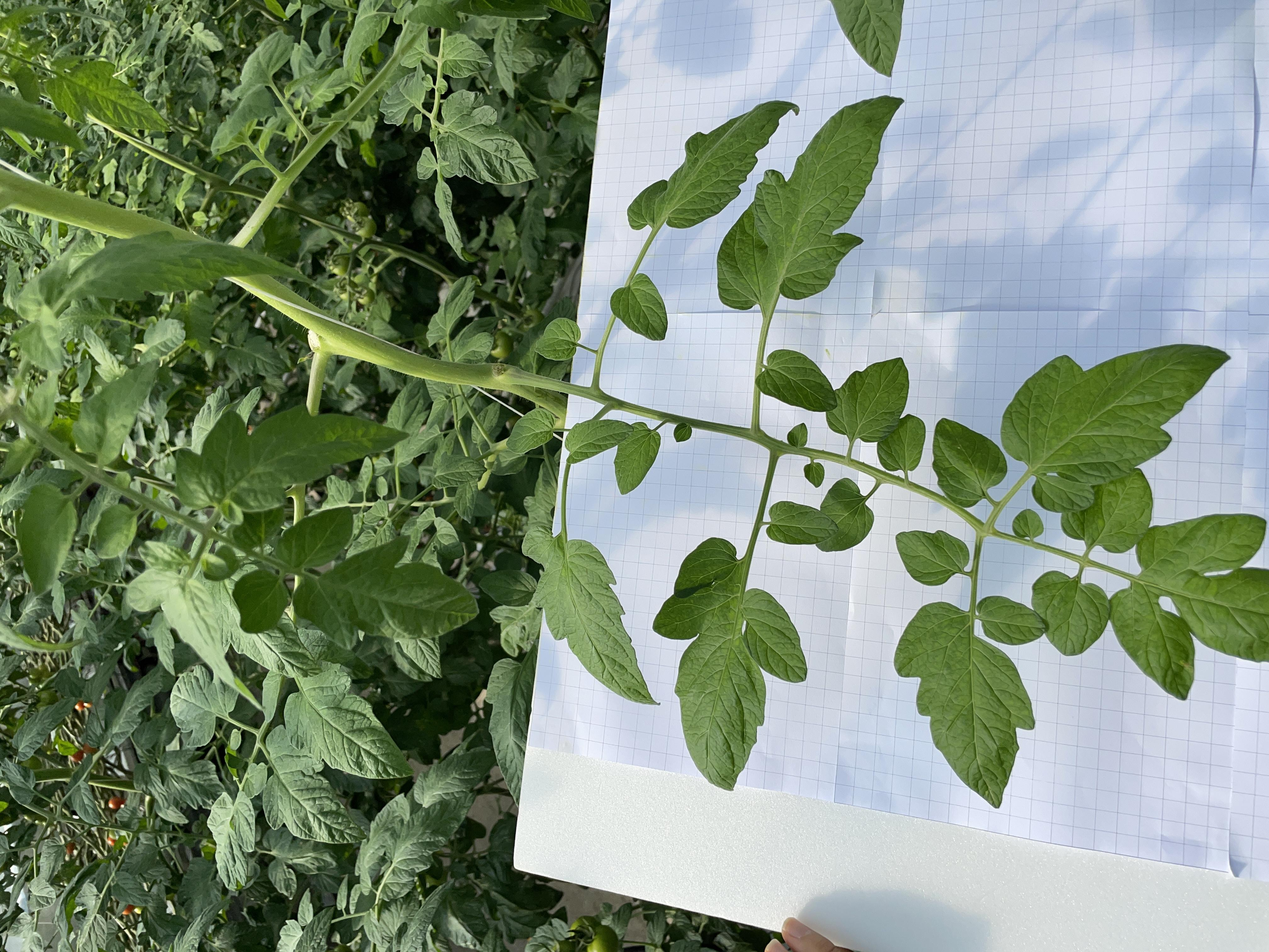Healthy: (855, 537, 1143, 679), (213, 488, 555, 607), (582, 749, 811, 924), (188, 669, 477, 788), (569, 131, 733, 309), (327, 390, 570, 496), (961, 470, 1137, 600), (403, 219, 557, 360), (322, 94, 510, 199), (869, 46, 961, 237), (230, 212, 377, 311), (67, 273, 215, 359), (145, 196, 303, 276), (1089, 33, 1198, 130), (1022, 327, 1150, 406), (649, 52, 790, 119), (190, 363, 400, 403), (530, 795, 648, 865), (593, 698, 713, 756), (394, 774, 510, 833), (471, 14, 623, 58), (676, 629, 794, 682), (1164, 621, 1269, 679), (272, 127, 382, 180), (719, 566, 803, 629), (273, 79, 391, 123), (82, 155, 214, 192), (193, 310, 270, 371), (513, 208, 595, 264), (533, 611, 632, 656), (486, 671, 564, 728), (256, 8, 341, 60), (756, 169, 843, 219), (813, 456, 905, 502), (806, 319, 902, 362), (584, 0, 646, 62), (608, 459, 707, 497), (424, 174, 511, 217), (1144, 178, 1230, 221), (645, 290, 764, 319), (1177, 256, 1269, 293), (541, 574, 602, 629), (650, 423, 710, 476), (1099, 284, 1187, 320), (0, 301, 92, 335), (640, 657, 718, 695), (758, 62, 838, 96), (917, 325, 1028, 349), (1165, 329, 1225, 370), (525, 70, 597, 104), (664, 378, 726, 417), (787, 399, 848, 437), (786, 104, 848, 140), (1136, 410, 1208, 440), (461, 358, 510, 402), (364, 295, 422, 332), (619, 323, 664, 366), (367, 110, 454, 131), (60, 83, 109, 119), (1227, 304, 1269, 346), (935, 0, 985, 35), (508, 103, 549, 143), (652, 300, 706, 330), (195, 3, 261, 27), (673, 353, 734, 376), (101, 89, 146, 120), (169, 53, 229, 76), (524, 325, 580, 349), (784, 341, 827, 372), (94, 29, 152, 50), (569, 340, 631, 359), (634, 367, 672, 396), (306, 196, 375, 211), (692, 318, 744, 337), (55, 21, 101, 42), (203, 184, 253, 200), (568, 271, 604, 292), (612, 266, 660, 280), (34, 223, 87, 235), (1030, 312, 1073, 326), (561, 312, 594, 327), (56, 252, 105, 261)
